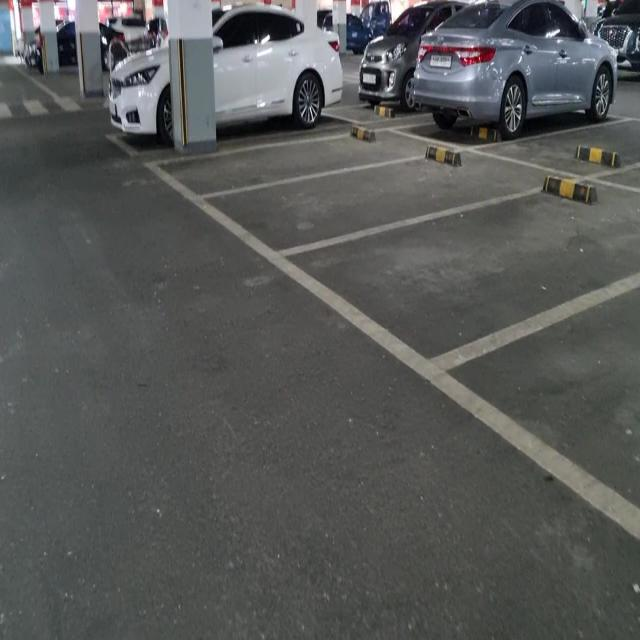empty: (275, 174, 640, 384), (199, 142, 552, 256), (145, 126, 433, 206)
occupied: (107, 13, 334, 160)
